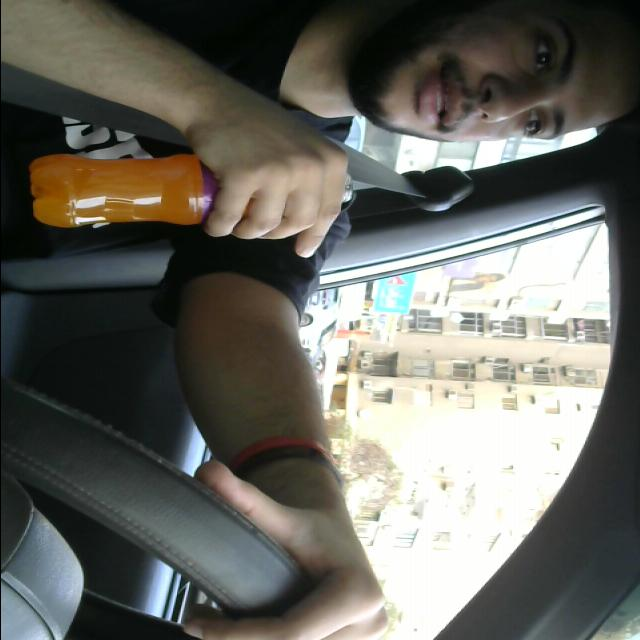drinking: (26, 146, 346, 236)
